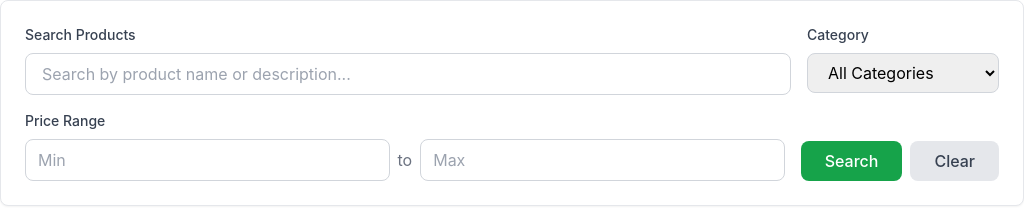
Test: SearchBar Component › clears all filters when clear button is clicked
This screenshot has width=1024, height=223.
Fill in some values
Type "test" into the field labelled "Search Products" at (408, 74), box [25,53,791,95]
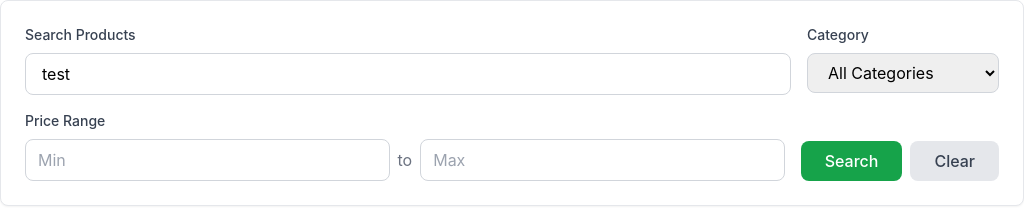
Select "Agriculture" in the dropdown labelled "Category" at (903, 73), box [807,53,999,93]
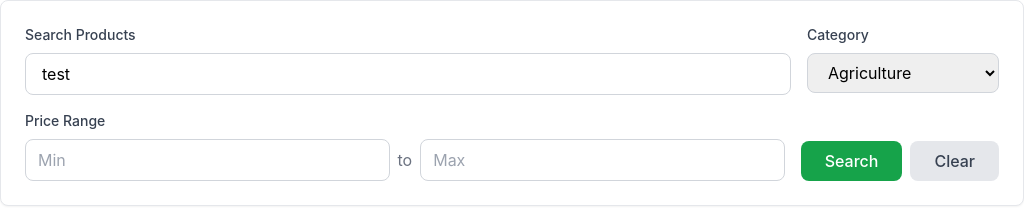
Type "10" into the number field with placeholder "Min" at (207, 160), box [25,139,390,181]
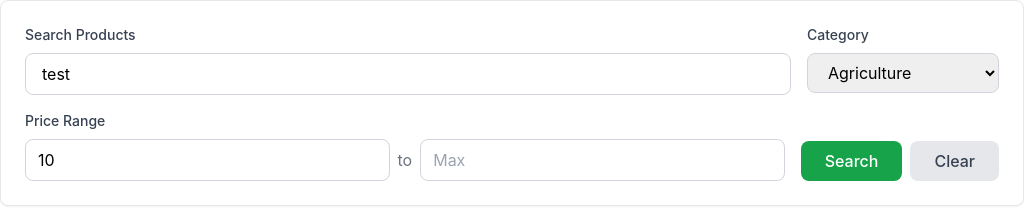
Clear filters
Click the button "Clear" at (955, 161), box [910,141,999,181]
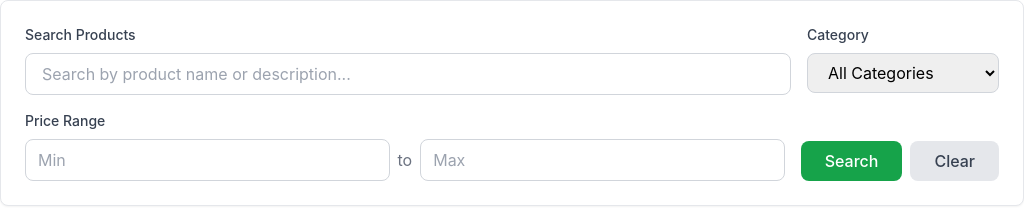
expect the field labelled "Search Products" is empty: met, box [25,53,791,95]
expect the number field with placeholder "Min" is empty: met, box [25,139,390,181]
